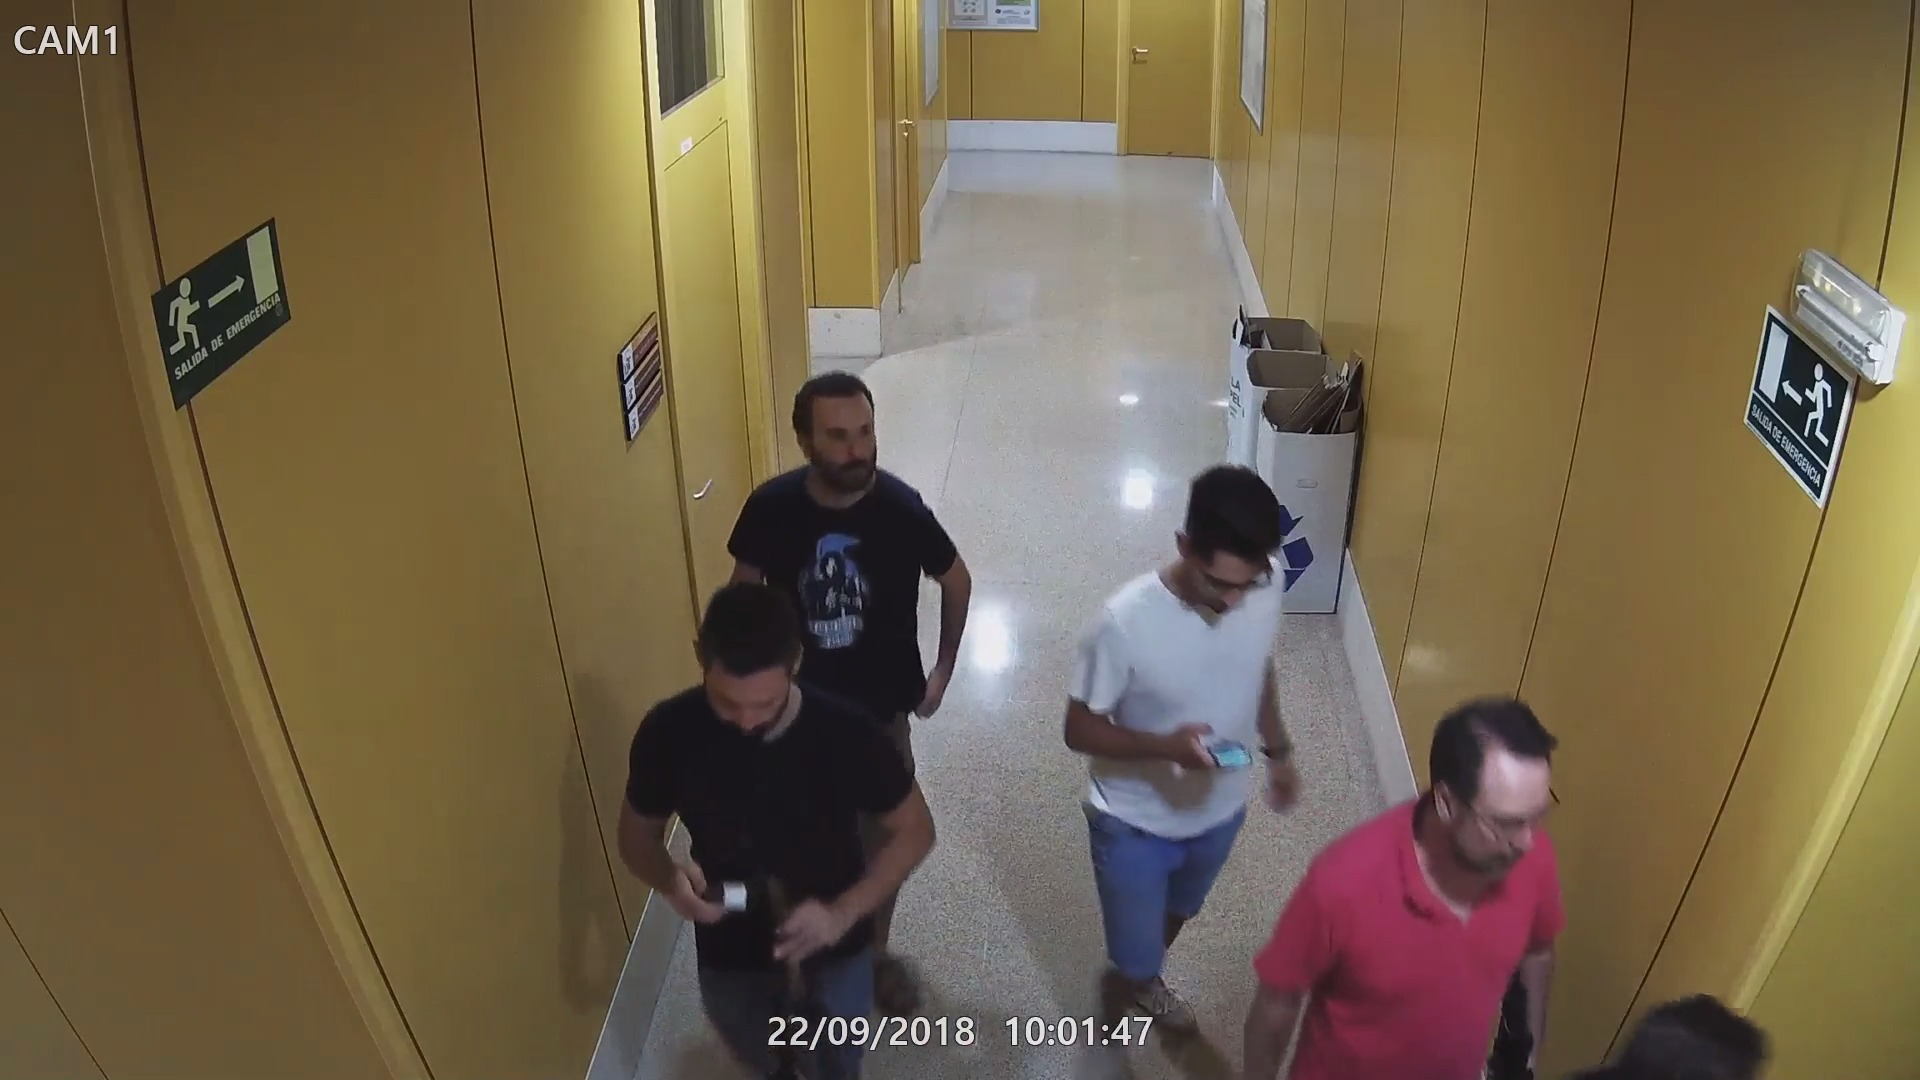Short_rifle: (761, 880, 835, 1080), (1472, 957, 1543, 1080)
